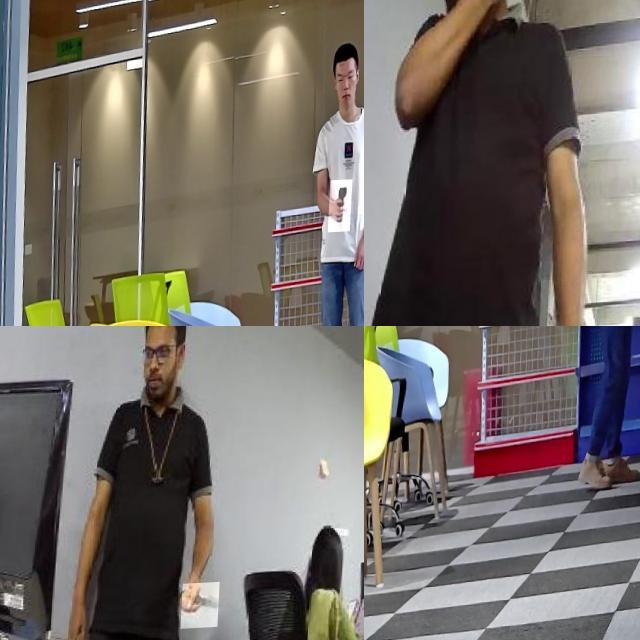-: (186, 586, 225, 632)
gun-knife-thesis - v11 Yolov5 augmented: (330, 184, 354, 236), (621, 326, 640, 343)
